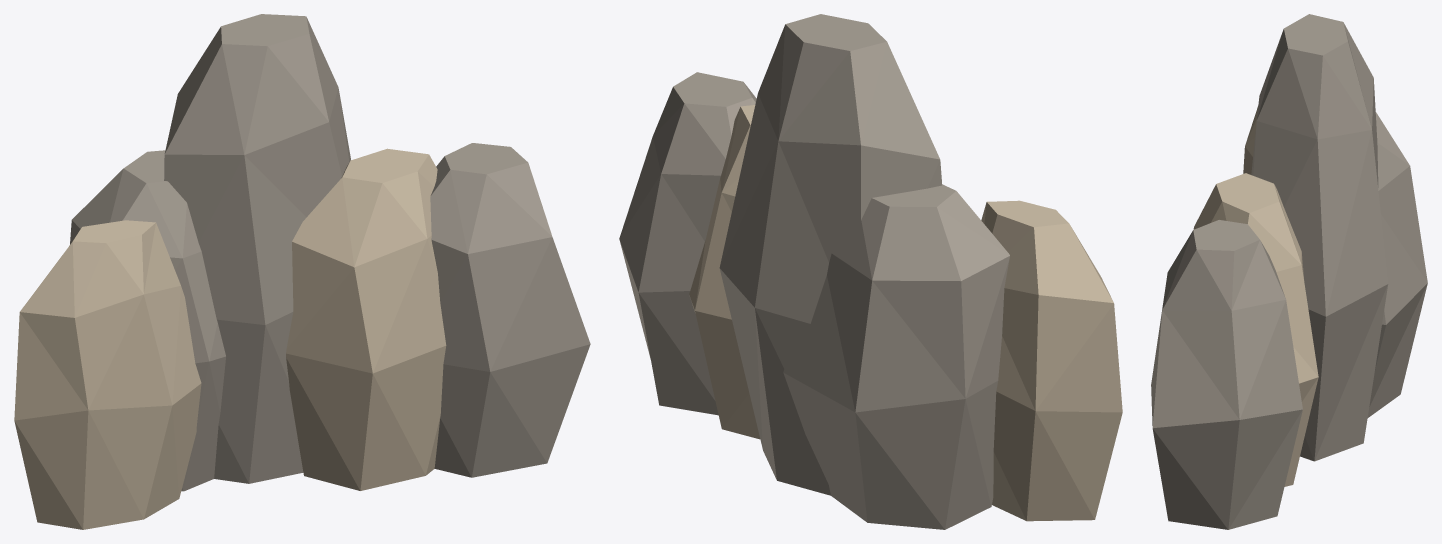
File: cliff_rock_b.fbx
3 renders of one model, left to right at view 1: azimuth 30°, elevation 25°; view 2: azimuth 150°, elevation 25°; view 3: azimuth 270°, elevation 25°, orthographic. The views are drawn at different scales.
Visible parts, largest first — view 1: cliff_rock_b; view 2: cliff_rock_b; view 3: cliff_rock_b.
Boxes of the visible parts, <box> form: cliff_rock_b: <box>14,14,590,529</box>; cliff_rock_b: <box>619,14,1122,529</box>; cliff_rock_b: <box>1151,14,1427,529</box>.
Size of the model in its own units: 14 by 11 by 7.
